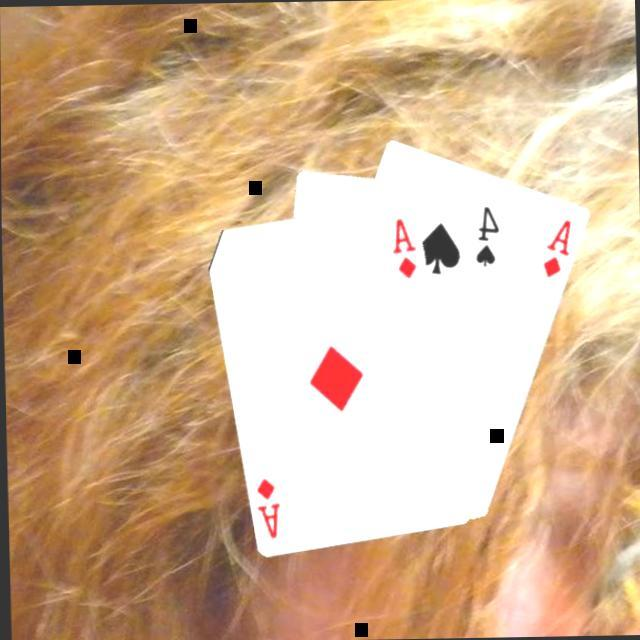4S: (471, 199, 504, 268)
AD: (539, 213, 576, 279), (388, 212, 419, 279), (252, 472, 283, 539)
